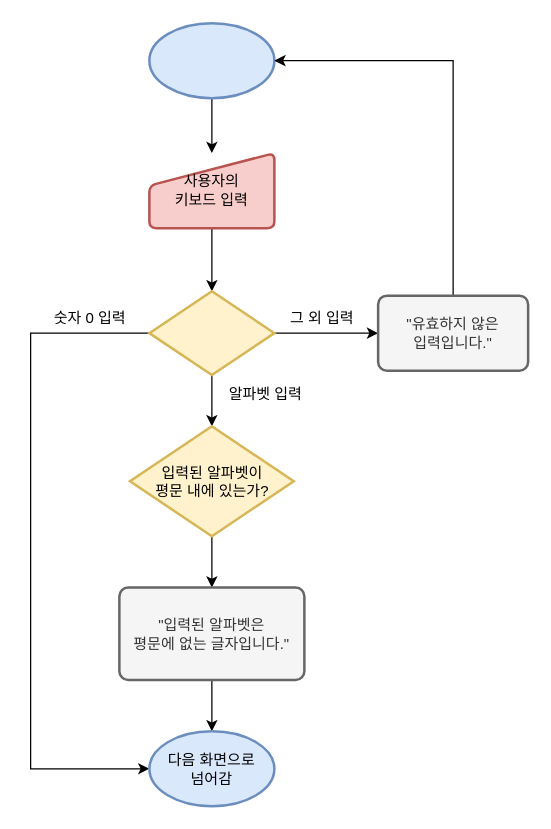
This 551x829 diagram has some shape labels left out. Here are the shapes that lost their labels. From the top down, the centre of each, then its label:
At (x=211, y=60): "공개 모드 설정 화면".
At (x=211, y=332): "입력된 값?".
